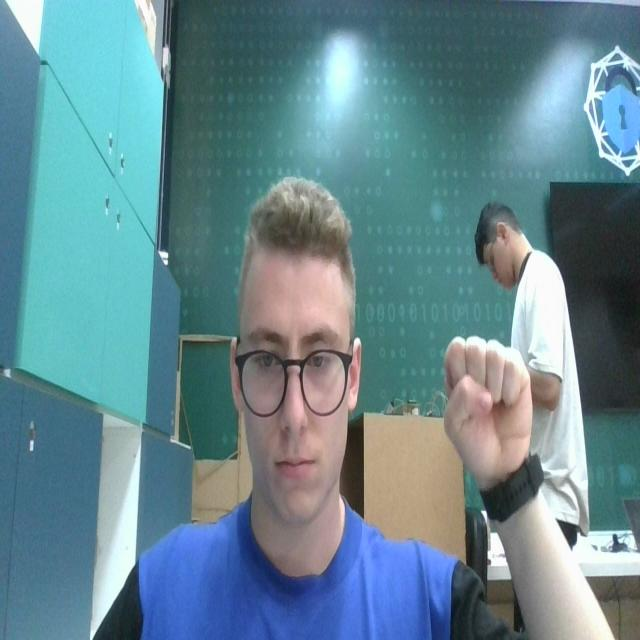S: (438, 329, 536, 480)
